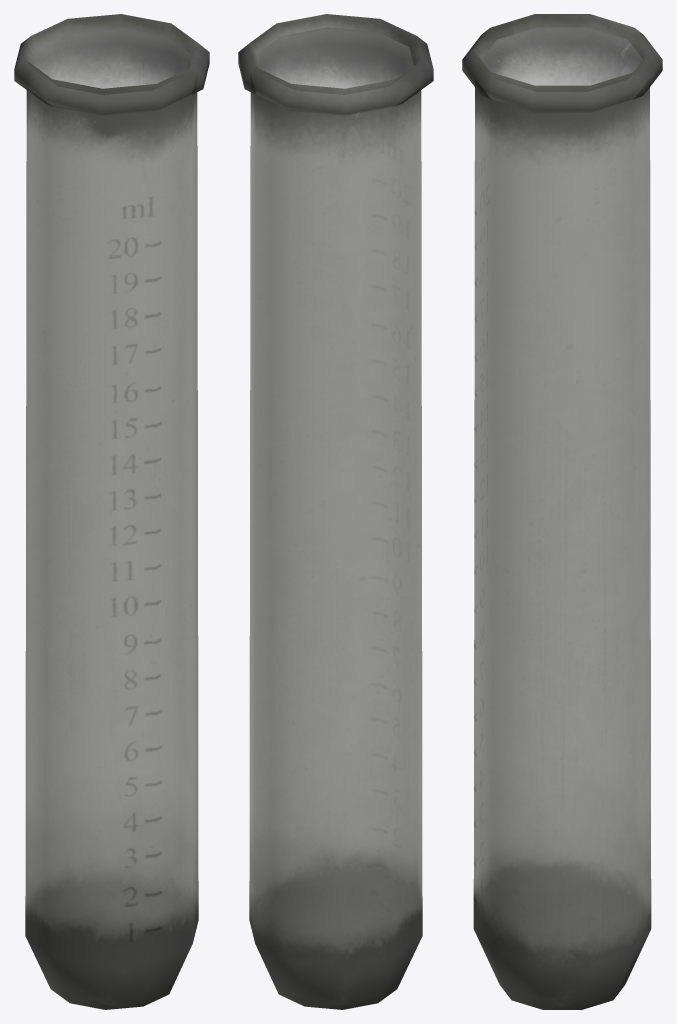
3 renders of one model, left to right at view 1: azimuth 30°, elevation 25°; view 2: azimuth 150°, elevation 25°; view 3: azimuth 270°, elevation 25°, orthographic.
Parts seen in each view (by area): view 1: vial_lp; view 2: vial_lp; view 3: vial_lp.
Part boxes in pixels (left/top/right/bottom): vial_lp: left=14, top=14, right=209, bottom=1009; vial_lp: left=238, top=14, right=433, bottom=1009; vial_lp: left=462, top=14, right=662, bottom=1009.
Bounding box in the file's own units: 0.2361 × 1.31 × 0.2483.
Materials: 1 (1 with a texture image).
